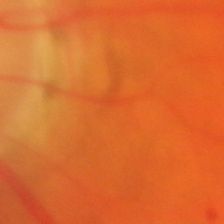MA: (206, 208, 217, 221)
